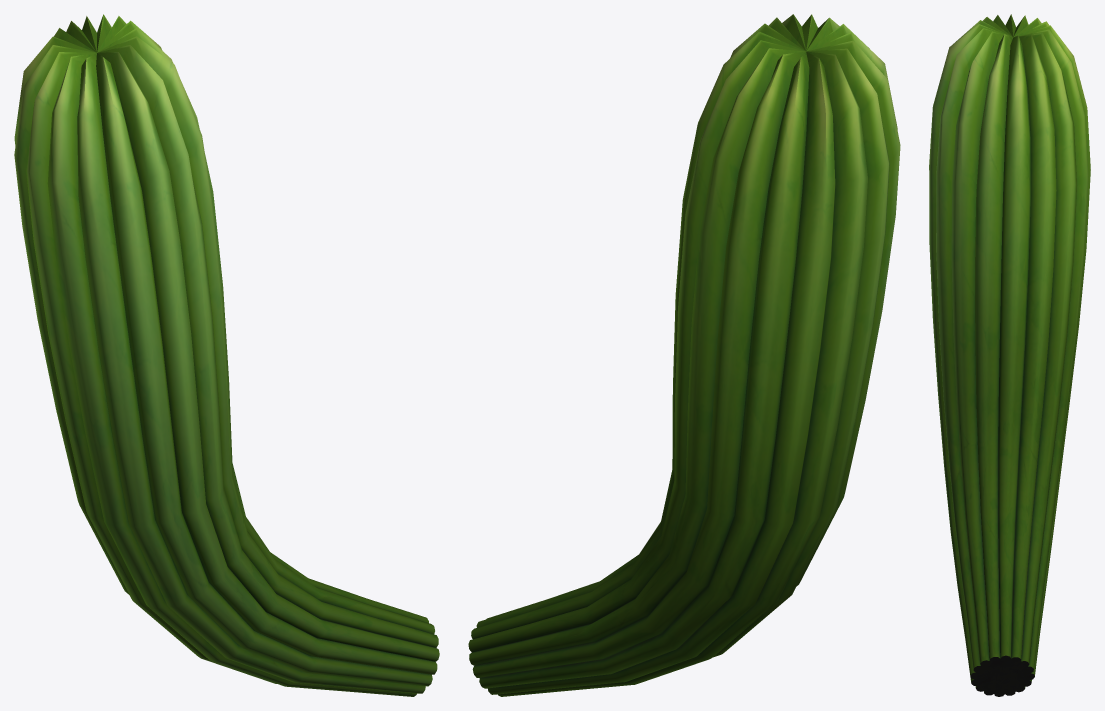
Rendered from DE_Cactus_27.fbx.
3 views of the same model, side by side, from view 1: azimuth 30°, elevation 25°; view 2: azimuth 150°, elevation 25°; view 3: azimuth 270°, elevation 25° (orthographic). The views are drawn at different scales.
Visible parts, largest first — view 1: DE_Cactus_27; view 2: DE_Cactus_27; view 3: DE_Cactus_27.
Part boxes in pixels (x1,y1,x2,y2): DE_Cactus_27: (14, 14, 439, 696); DE_Cactus_27: (468, 14, 900, 696); DE_Cactus_27: (929, 14, 1090, 696).
Bounding box in the file's own units: 2.82 × 4.91 × 1.28.
